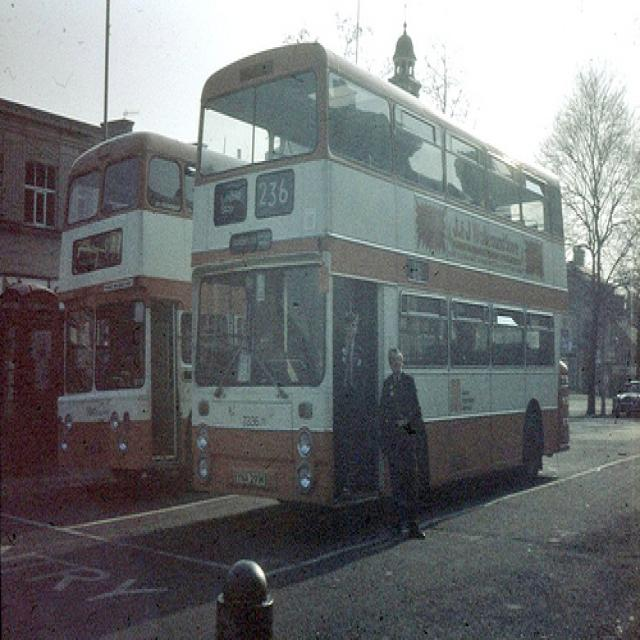light_vehicle: (612, 371, 639, 420)
